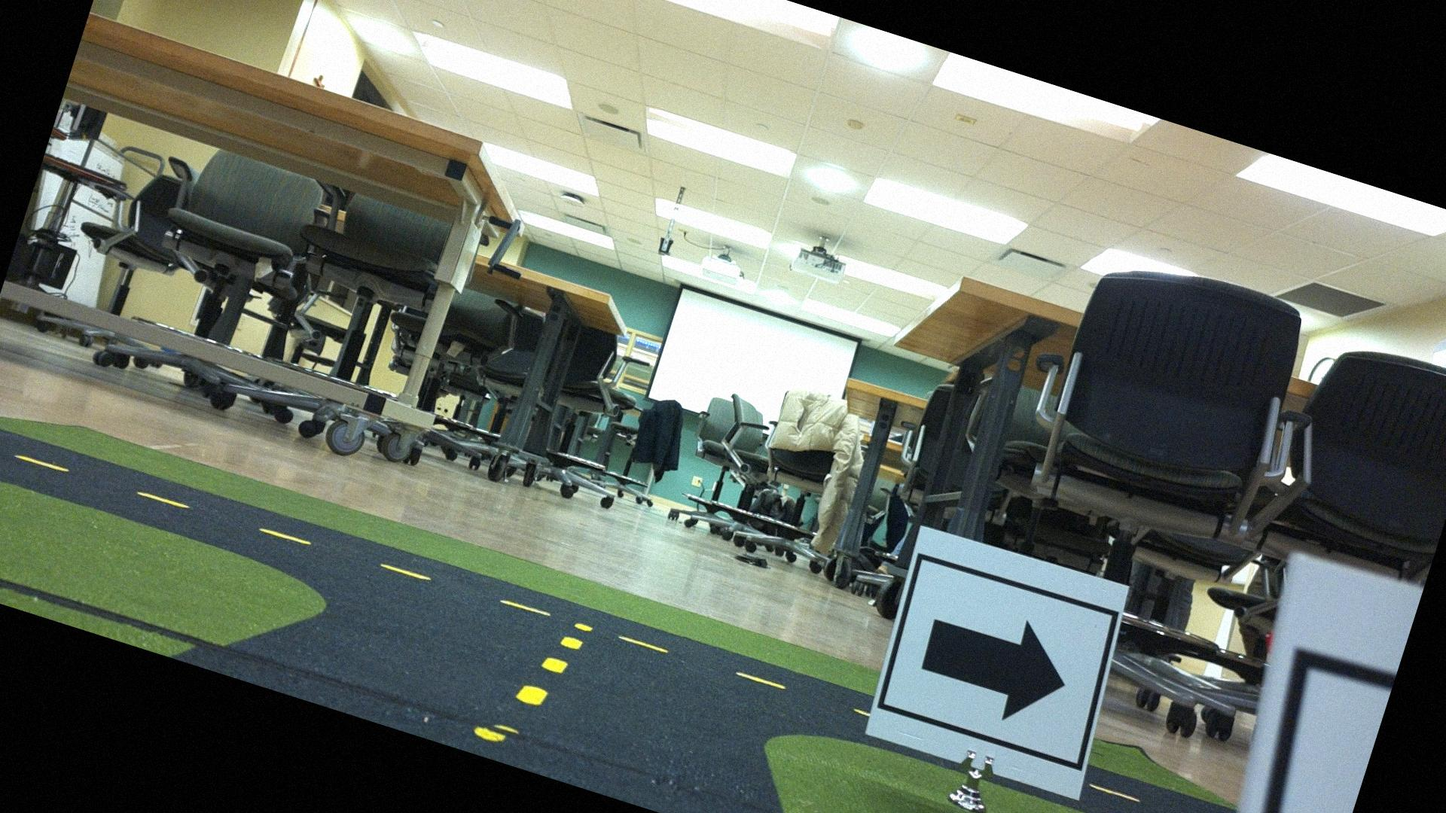turnleft: (862, 528, 1133, 804)
yellowline: (512, 607, 590, 719)
